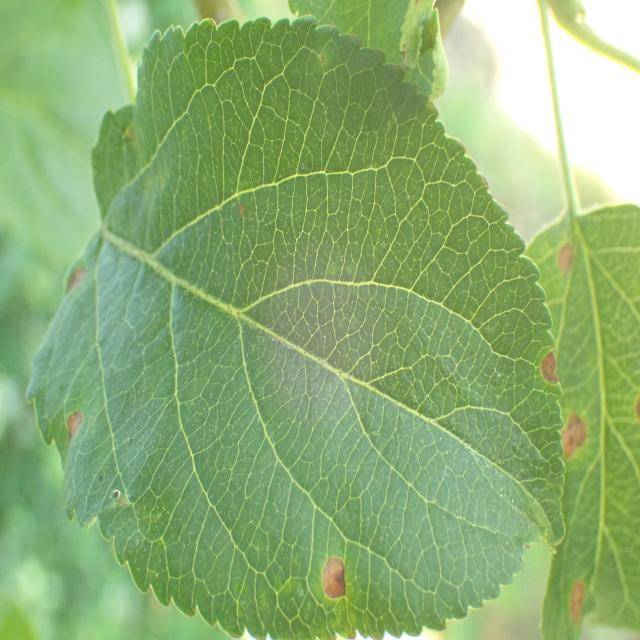Black Rot: (314, 498, 359, 630), (556, 402, 597, 485), (60, 404, 101, 468), (526, 340, 562, 403), (551, 220, 577, 298), (59, 253, 94, 307), (569, 573, 594, 636)
